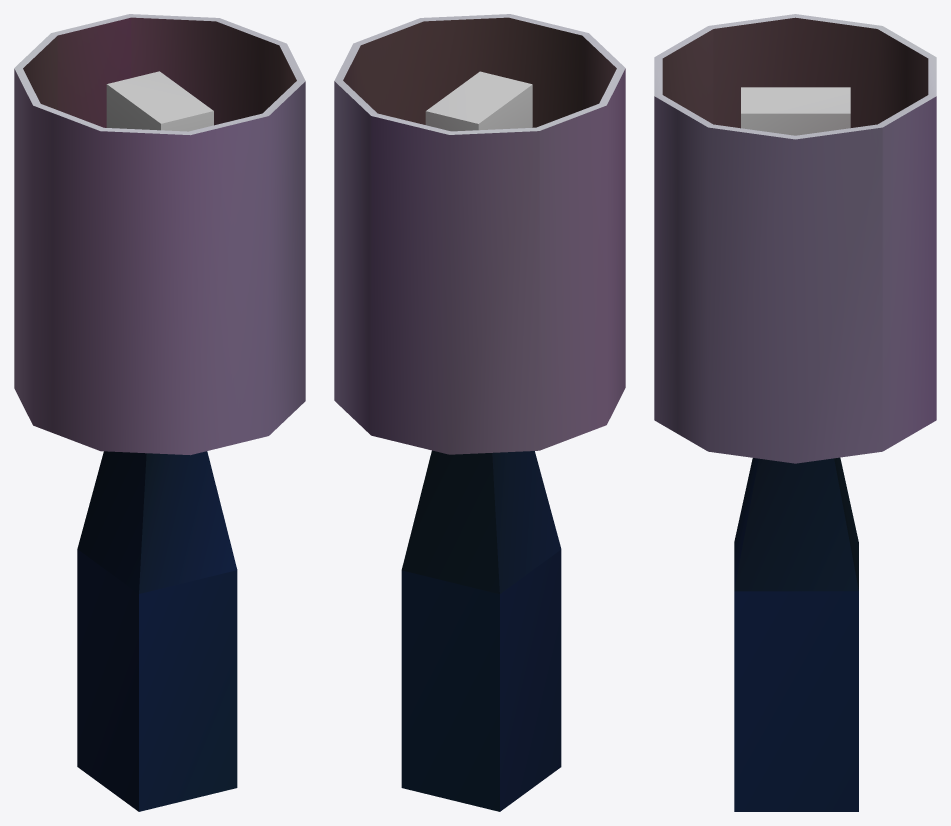
The model's file is tube_shade_lamp.FBX.
3 renders of one model, left to right at view 1: azimuth 30°, elevation 25°; view 2: azimuth 150°, elevation 25°; view 3: azimuth 270°, elevation 25°, orthographic.
Visible parts, largest first — view 1: tube shade lamp, bulb05; view 2: tube shade lamp, bulb05; view 3: tube shade lamp, bulb05.
Part boxes in pixels (x1,y1,x2,y2): tube shade lamp: [14, 14, 305, 811]; bulb05: [106, 71, 213, 131]; tube shade lamp: [334, 14, 625, 811]; bulb05: [425, 71, 532, 131]; tube shade lamp: [654, 14, 936, 811]; bulb05: [741, 87, 850, 135].
Bounding box in the file's own units: 0.3588 × 0.9491 × 0.3413.
